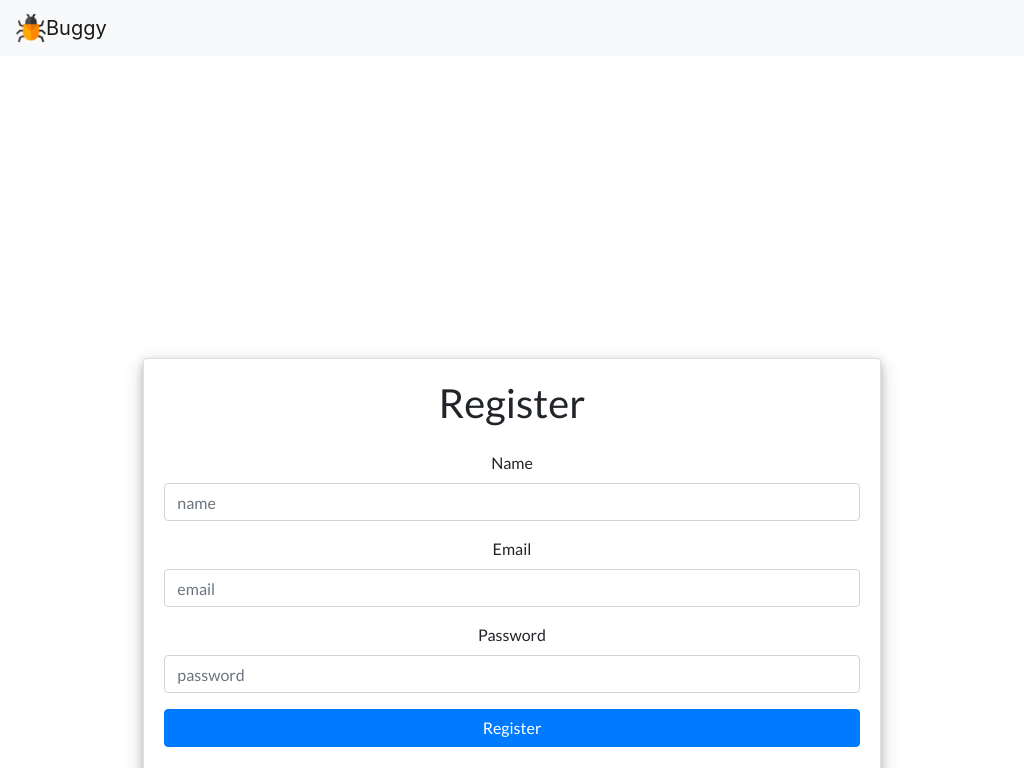
Test: renders the login page › returns error if to wrong email
Type "asdf" into the field with placeholder "name" at {"x": 512, "y": 502}, box [164,483,859,521]
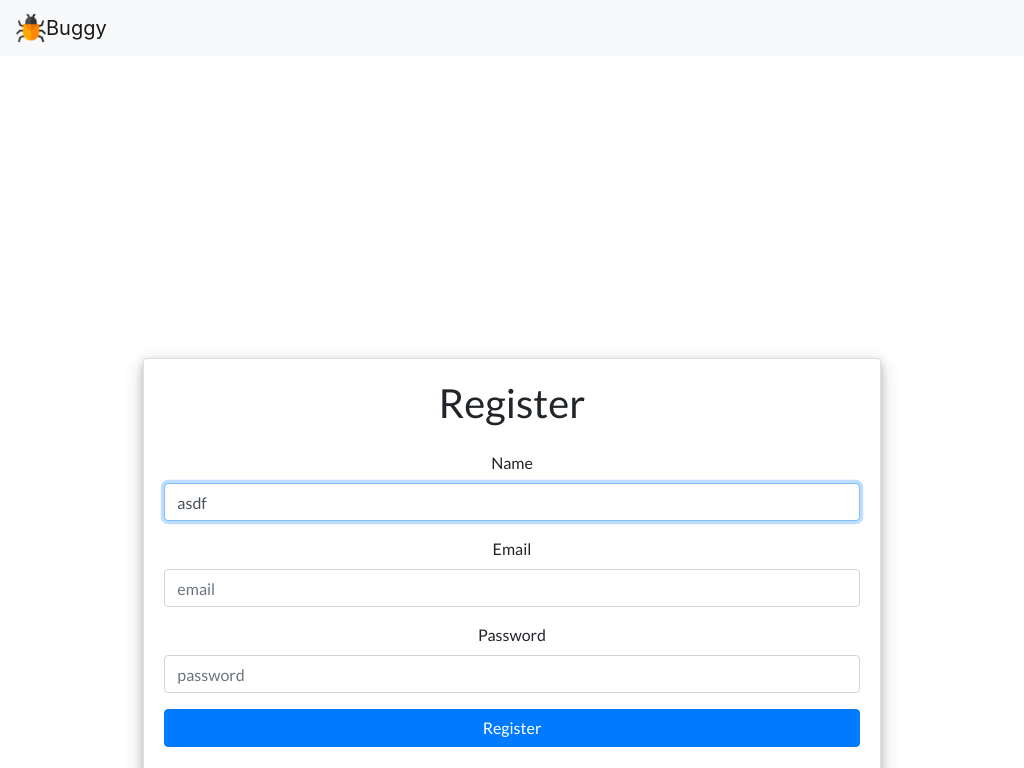
Type "asdas" into the field with placeholder "email" at {"x": 512, "y": 588}, box [164,569,859,607]
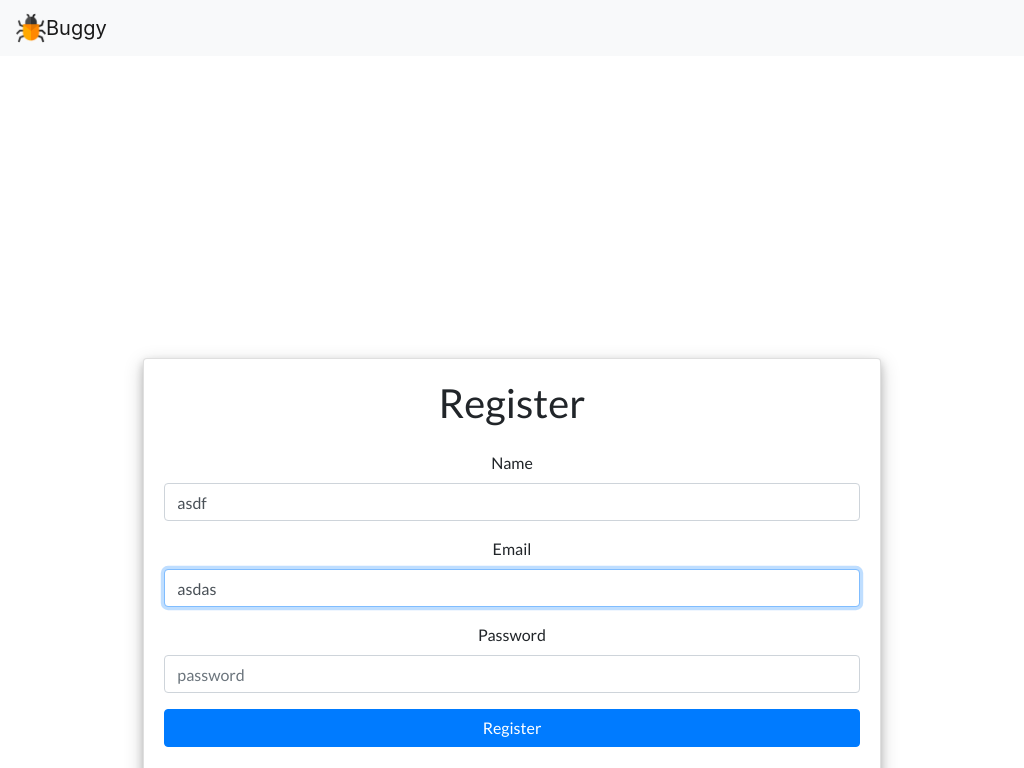
Click the button "Register" at {"x": 512, "y": 728}, box [164,709,859,747]
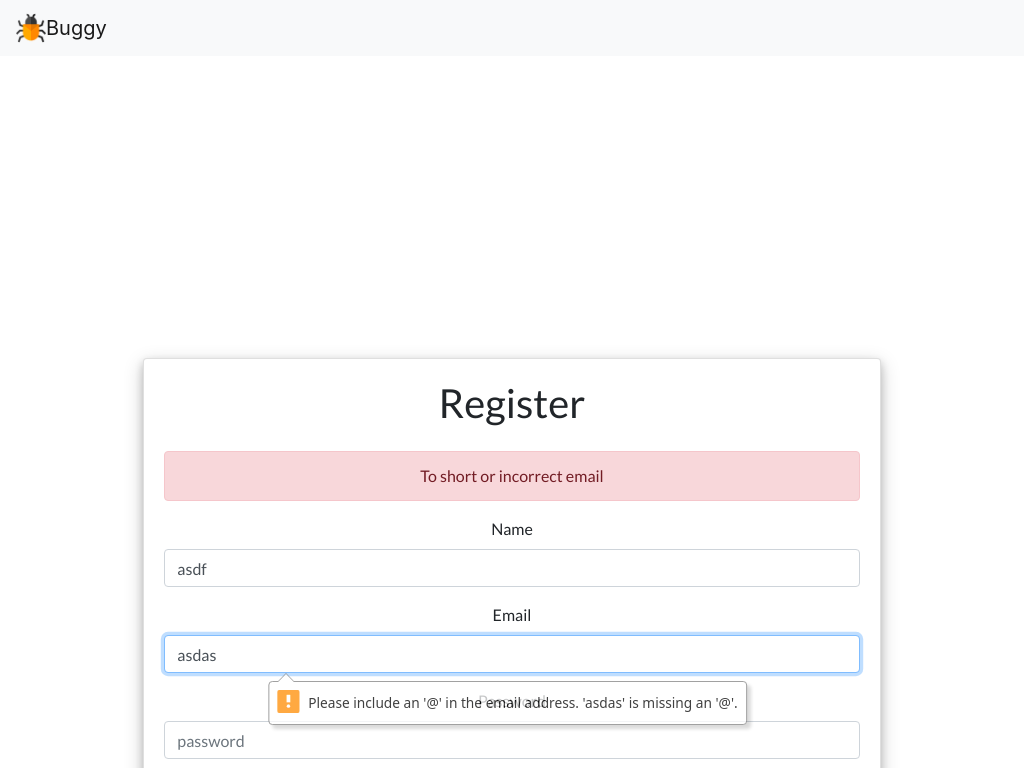
Expected: the text "To short or incorrect email" is shown, [164,451,860,501]
